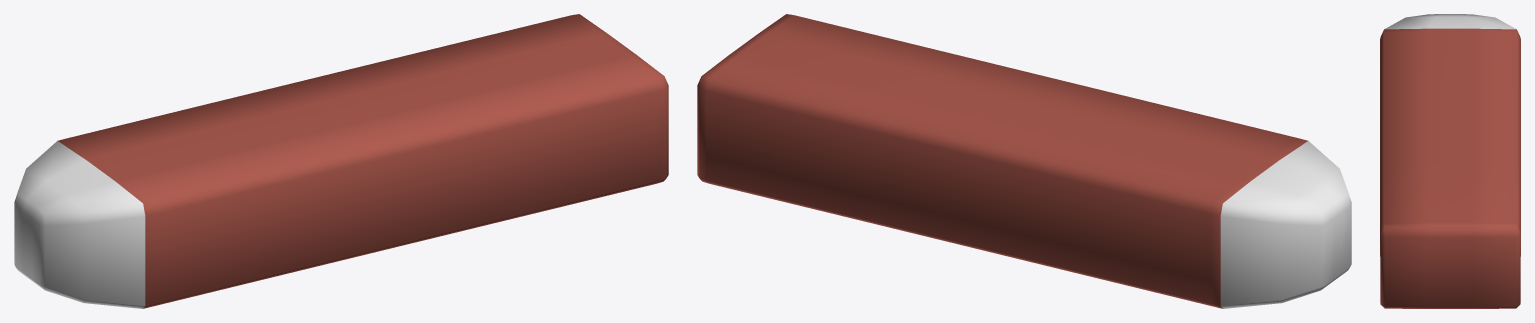
Rendered from ShipModelParts.fbx.
The picture shows the model from 3 angles, left to right: view 1: azimuth 30°, elevation 25°; view 2: azimuth 150°, elevation 25°; view 3: azimuth 270°, elevation 25°; orthographic projection. The views are drawn at different scales.
Parts seen in each view (by area): view 1: SM_Ship; view 2: SM_Ship; view 3: SM_Ship.
Part boxes in pixels (x1,y1,x2,y2): SM_Ship: (14,14,668,308); SM_Ship: (697,14,1351,308); SM_Ship: (1380,14,1520,308).
Bounding box in the file's own units: 2034 × 365 × 534.
